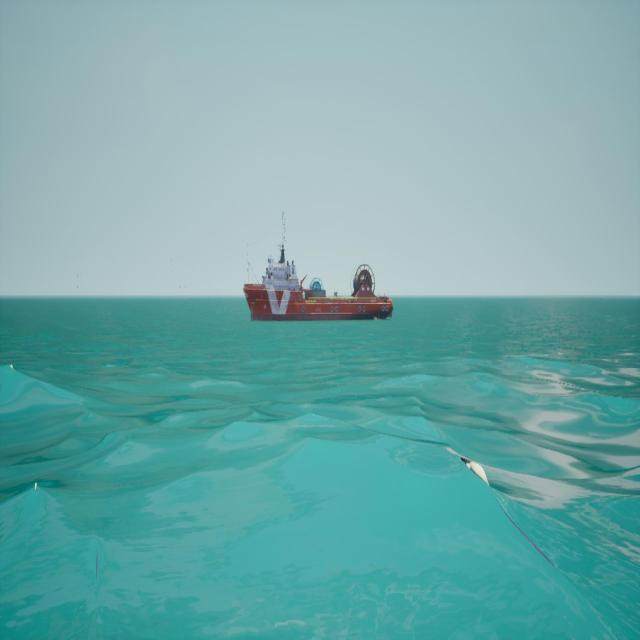tug boat: (243, 211, 394, 327)
